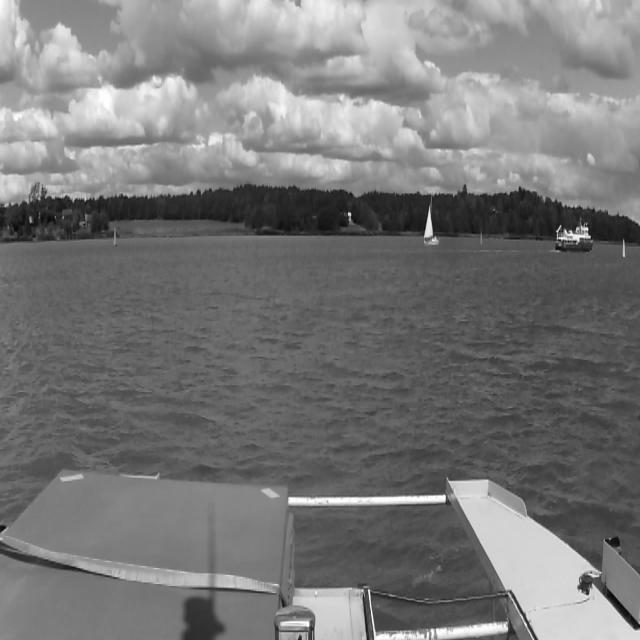buoy: (620, 237, 628, 263), (112, 226, 120, 248), (480, 228, 484, 246)
ship: (554, 216, 596, 252), (422, 195, 441, 246)
